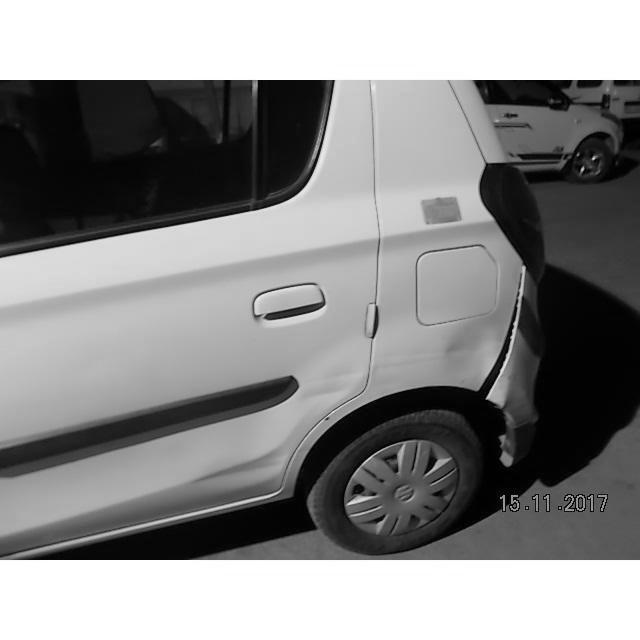quaterpanel-dent: (373, 209, 493, 509)
rear-bumper-dent: (478, 244, 558, 504)
